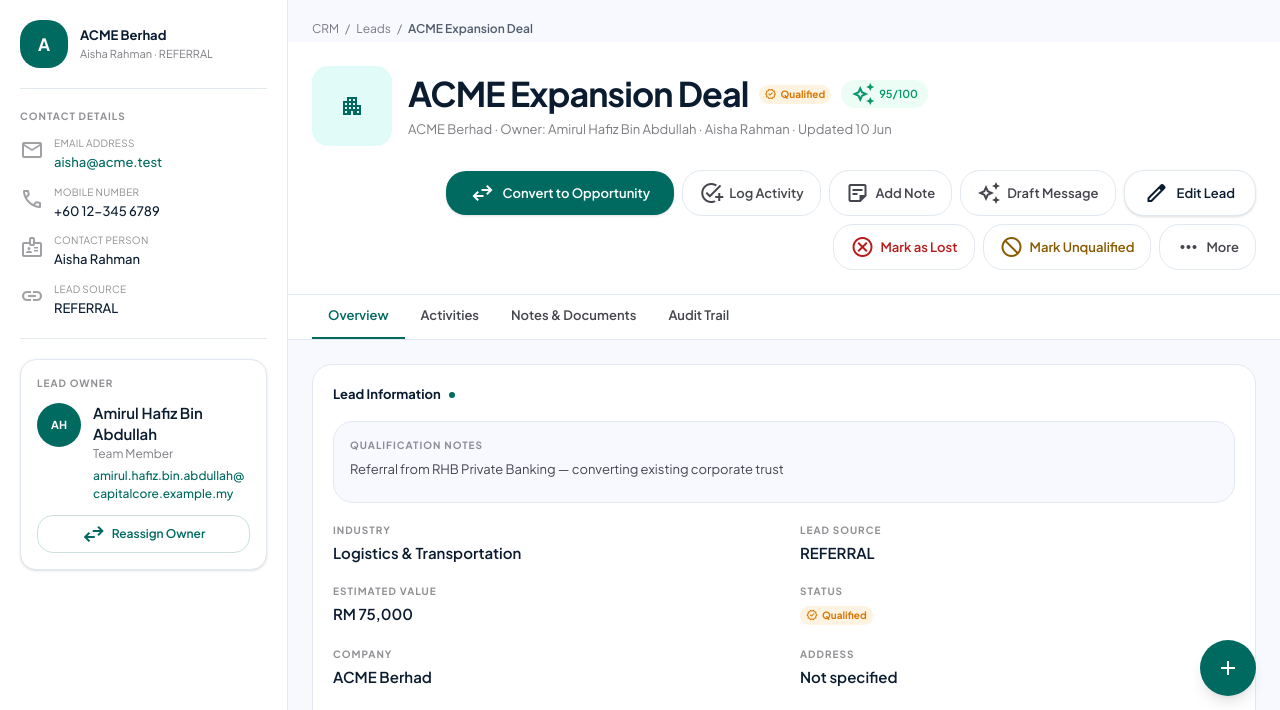
Scenario: CrmLeadDetail header redesign › shows the activity edit action to users with CRM write permission
What coordinates should you click on to do the following:
click the button "Activities"
I would click on:
 (450, 317)
Its box is [404, 295, 495, 339].
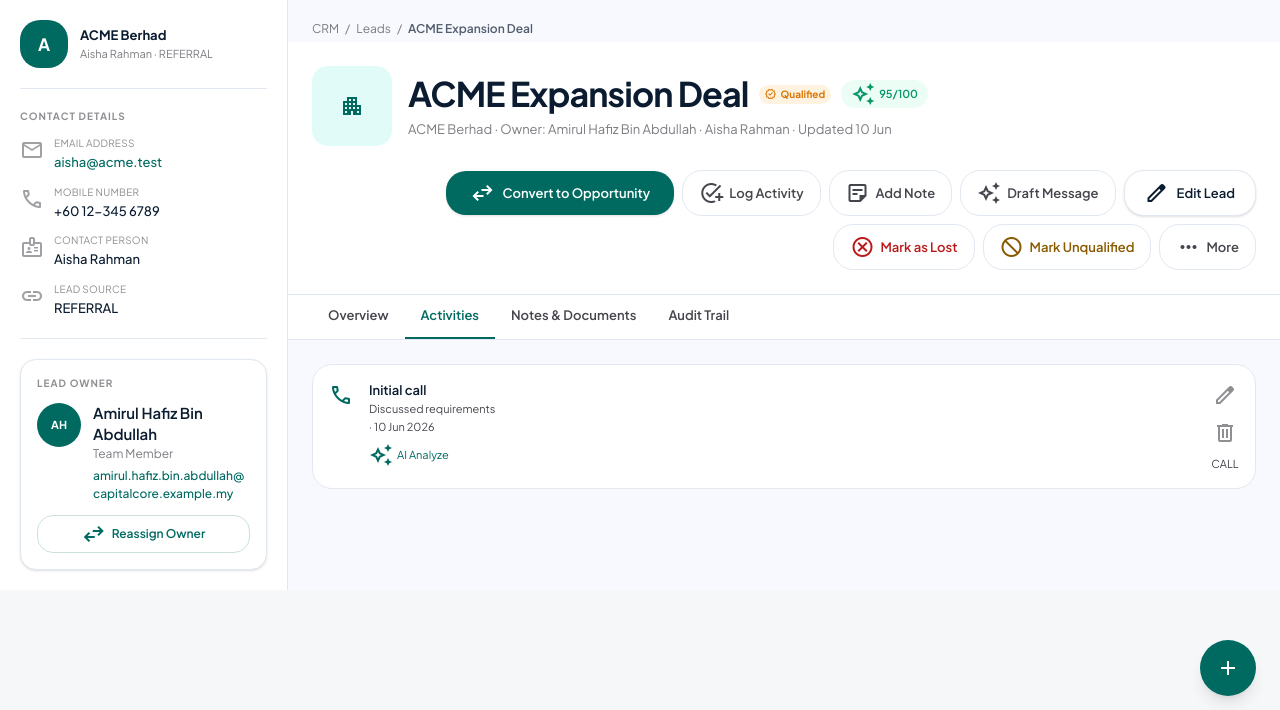
Now the button named "Edit activity" is shown, box [1211, 381, 1239, 415]
